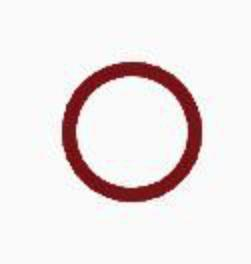RadioButton: (1, 1, 250, 263)
